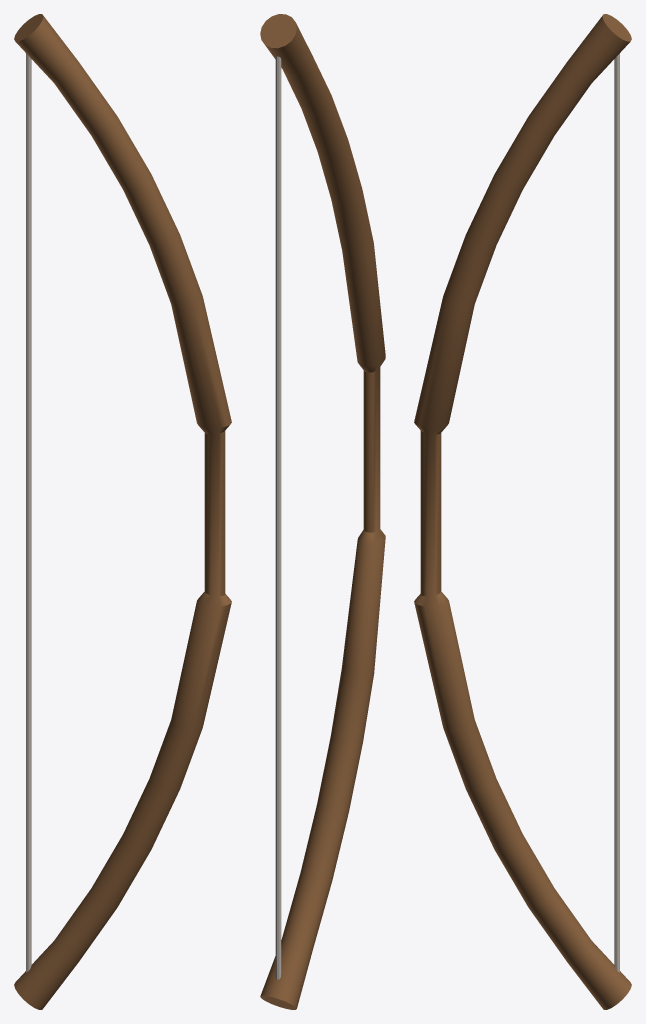
Rendered from Bow.gltf.
The picture shows the model from 3 angles, left to right: view 1: azimuth 90°, elevation 25°; view 2: azimuth 150°, elevation 25°; view 3: azimuth 270°, elevation 25°; orthographic projection.
Visible parts, largest first — view 1: Cylinder; view 2: Cylinder; view 3: Cylinder.
Part boxes in pixels (x1,y1,x2,y2): Cylinder: (14, 14, 231, 1009); Cylinder: (260, 14, 385, 1009); Cylinder: (414, 14, 631, 1009).
Bounding box in the file's own units: 0.6714 × 18.97 × 3.78.
